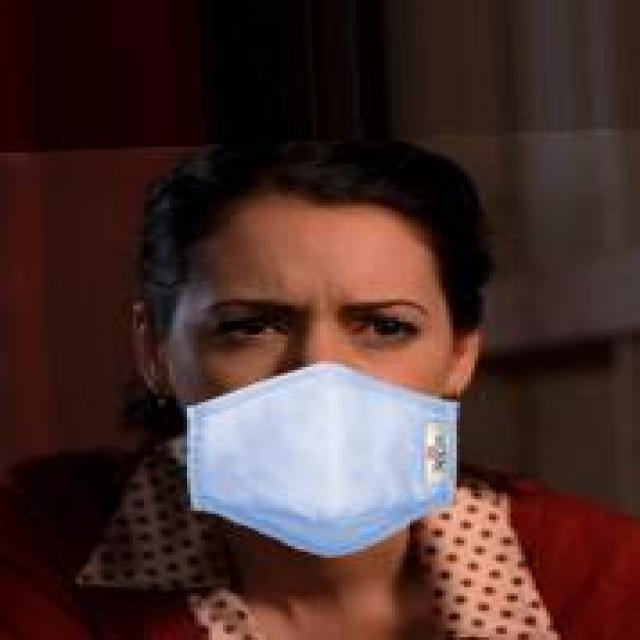mask: (119, 156, 521, 552)
